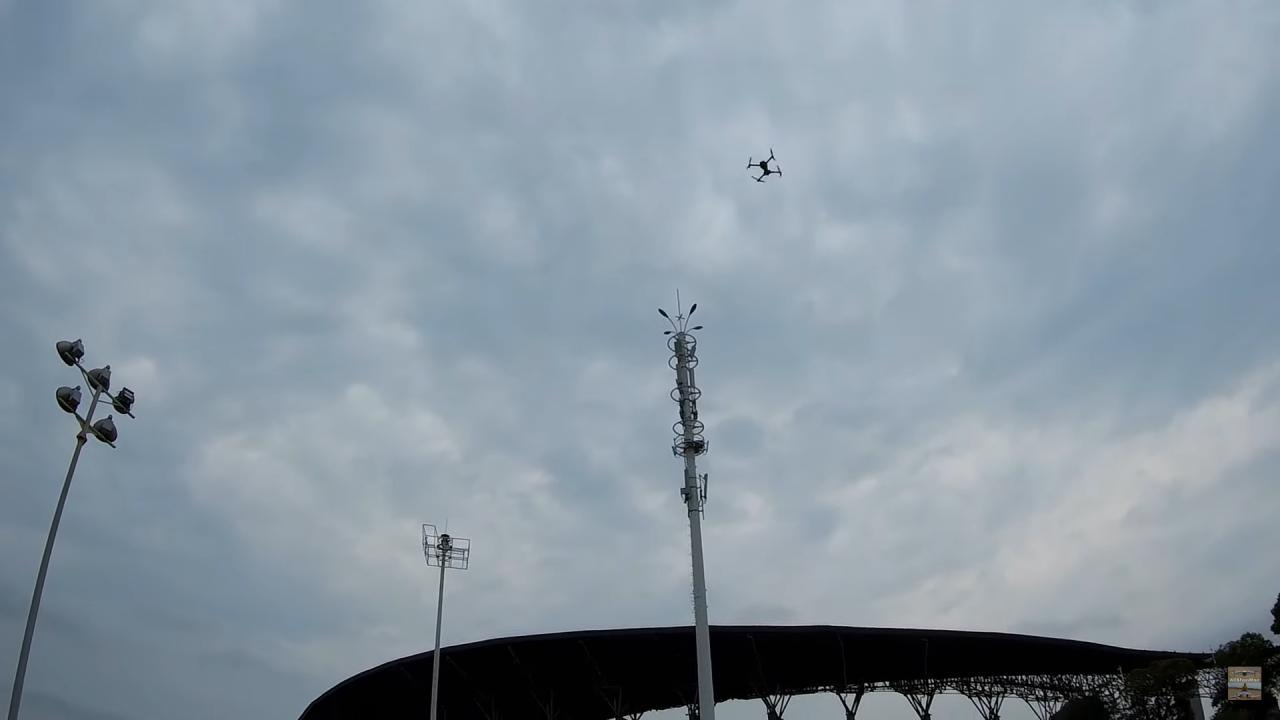Drone: (738, 144, 792, 192)
